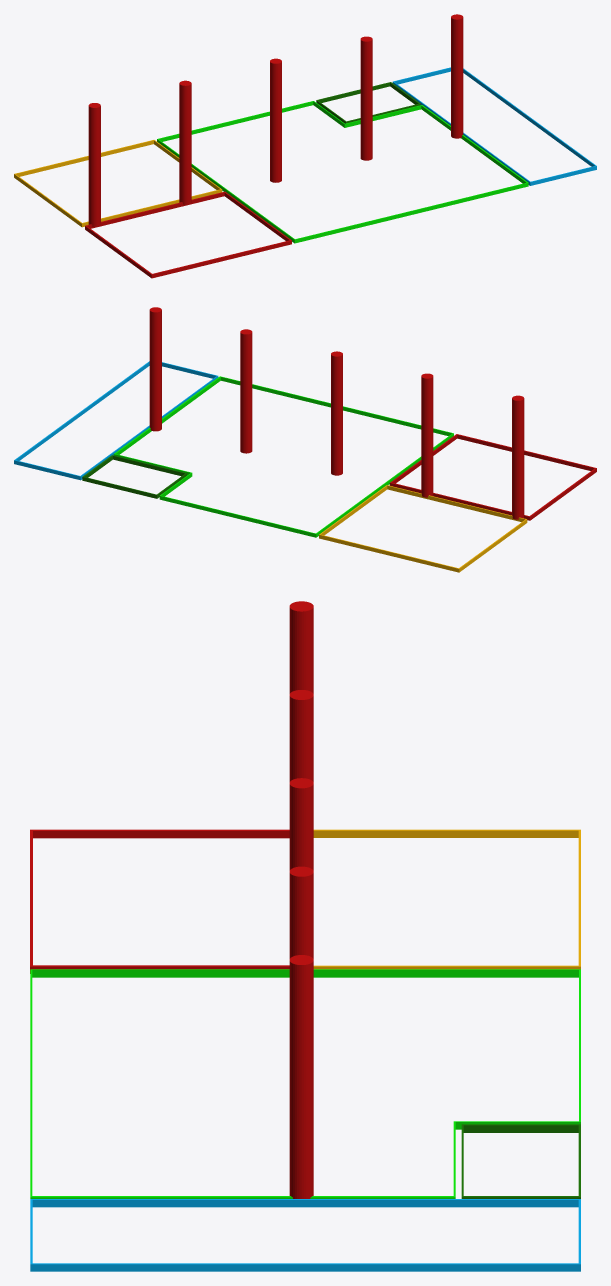
File: NEW_REF_AREAS_v01.fbx
The picture shows the model from 3 angles, top to bottom: view 1: azimuth 30°, elevation 25°; view 2: azimuth 150°, elevation 25°; view 3: azimuth 270°, elevation 25°; orthographic projection. The views are drawn at different scales.
Parts seen in each view (by area): view 1: SALA_05.001; view 2: SALA_05.001; view 3: SALA_05.001.
Boxes of the visible parts, x1,y1,x2,y2 form: SALA_05.001: [14, 14, 596, 278]; SALA_05.001: [14, 307, 596, 572]; SALA_05.001: [30, 601, 580, 1271].
Bounding box in the file's own units: 1722 × 446 × 923.
